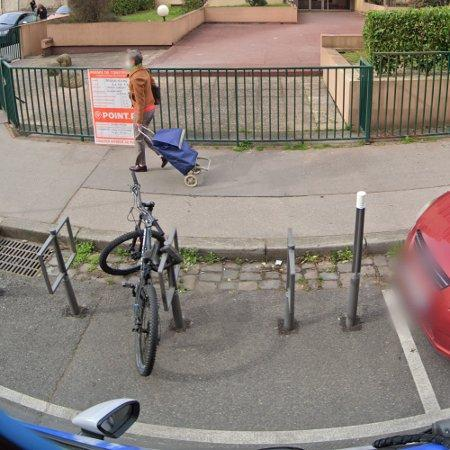bicycles: (100, 172, 165, 377)
